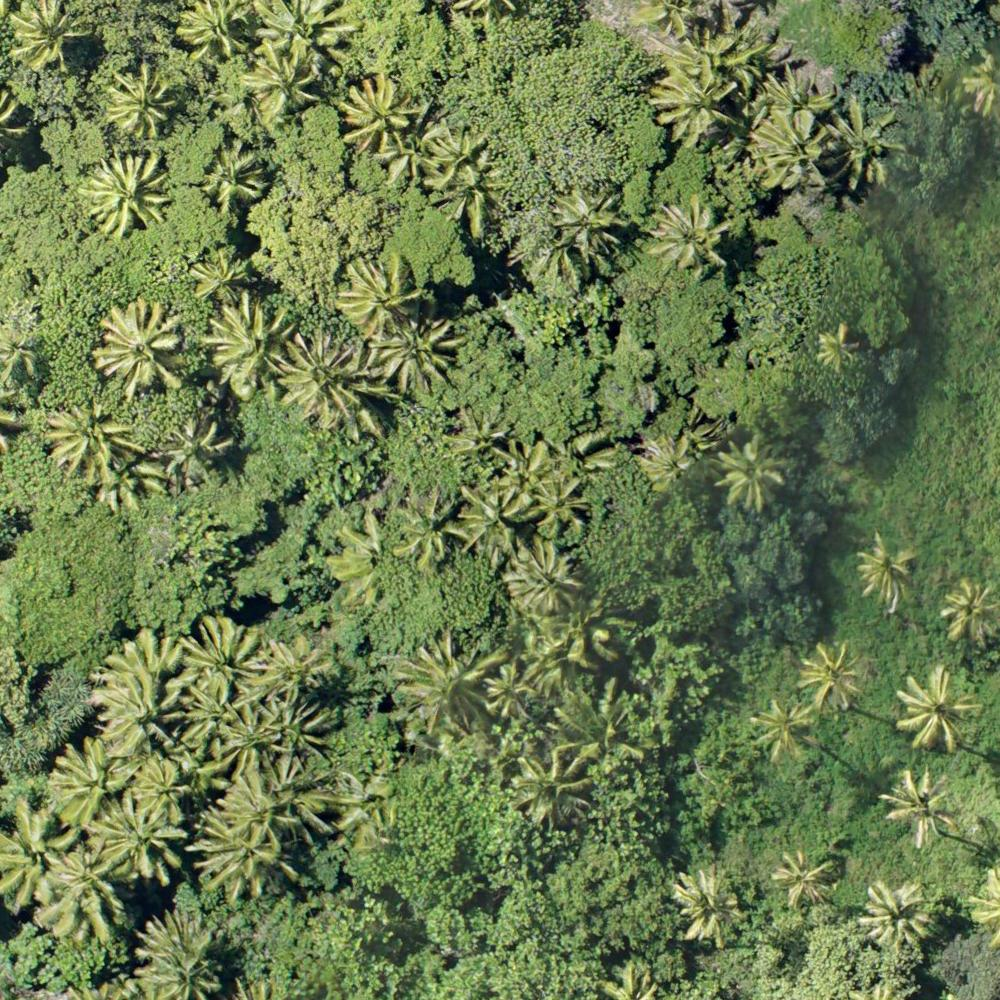not plam: (300, 895, 381, 975), (756, 917, 841, 993), (539, 50, 622, 125), (579, 314, 654, 397), (900, 330, 980, 407), (432, 909, 515, 981), (782, 211, 863, 284), (689, 609, 765, 686), (263, 439, 336, 516), (276, 181, 352, 254), (11, 572, 87, 644), (423, 807, 495, 883), (921, 182, 994, 256), (826, 429, 900, 502), (620, 526, 692, 601), (565, 862, 639, 933), (926, 441, 998, 513), (711, 304, 783, 375), (120, 548, 195, 616), (2, 210, 71, 283), (485, 332, 559, 400), (215, 525, 284, 594), (458, 35, 525, 102)
